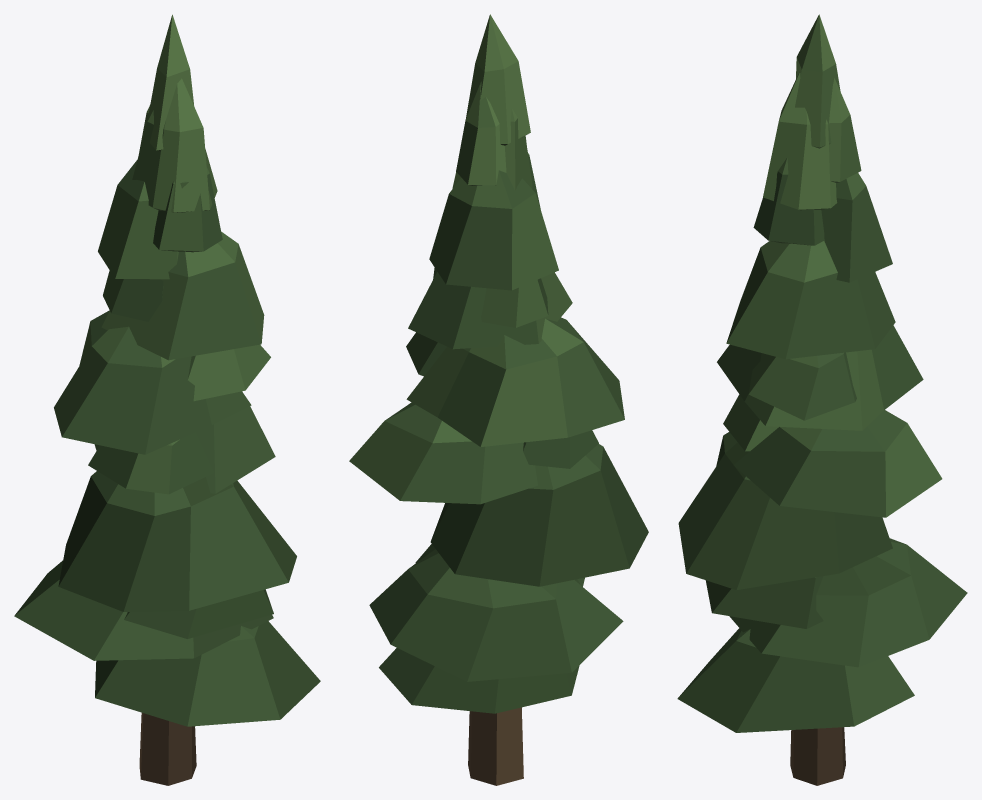
The model's file is tree-conifer-c.glb.
3 views of the same model, side by side, from view 1: azimuth 30°, elevation 25°; view 2: azimuth 150°, elevation 25°; view 3: azimuth 270°, elevation 25° (orthographic).
Parts seen in each view (by area): view 1: Tree_Conifer_C; view 2: Tree_Conifer_C; view 3: Tree_Conifer_C.
Part boxes in pixels (bbox=[...]): Tree_Conifer_C: bbox=[14, 14, 320, 785]; Tree_Conifer_C: bbox=[349, 14, 648, 785]; Tree_Conifer_C: bbox=[677, 14, 967, 785].
Bounding box in the file's own units: 3.23 × 9.96 × 3.45.
1 material, 1 textured.
